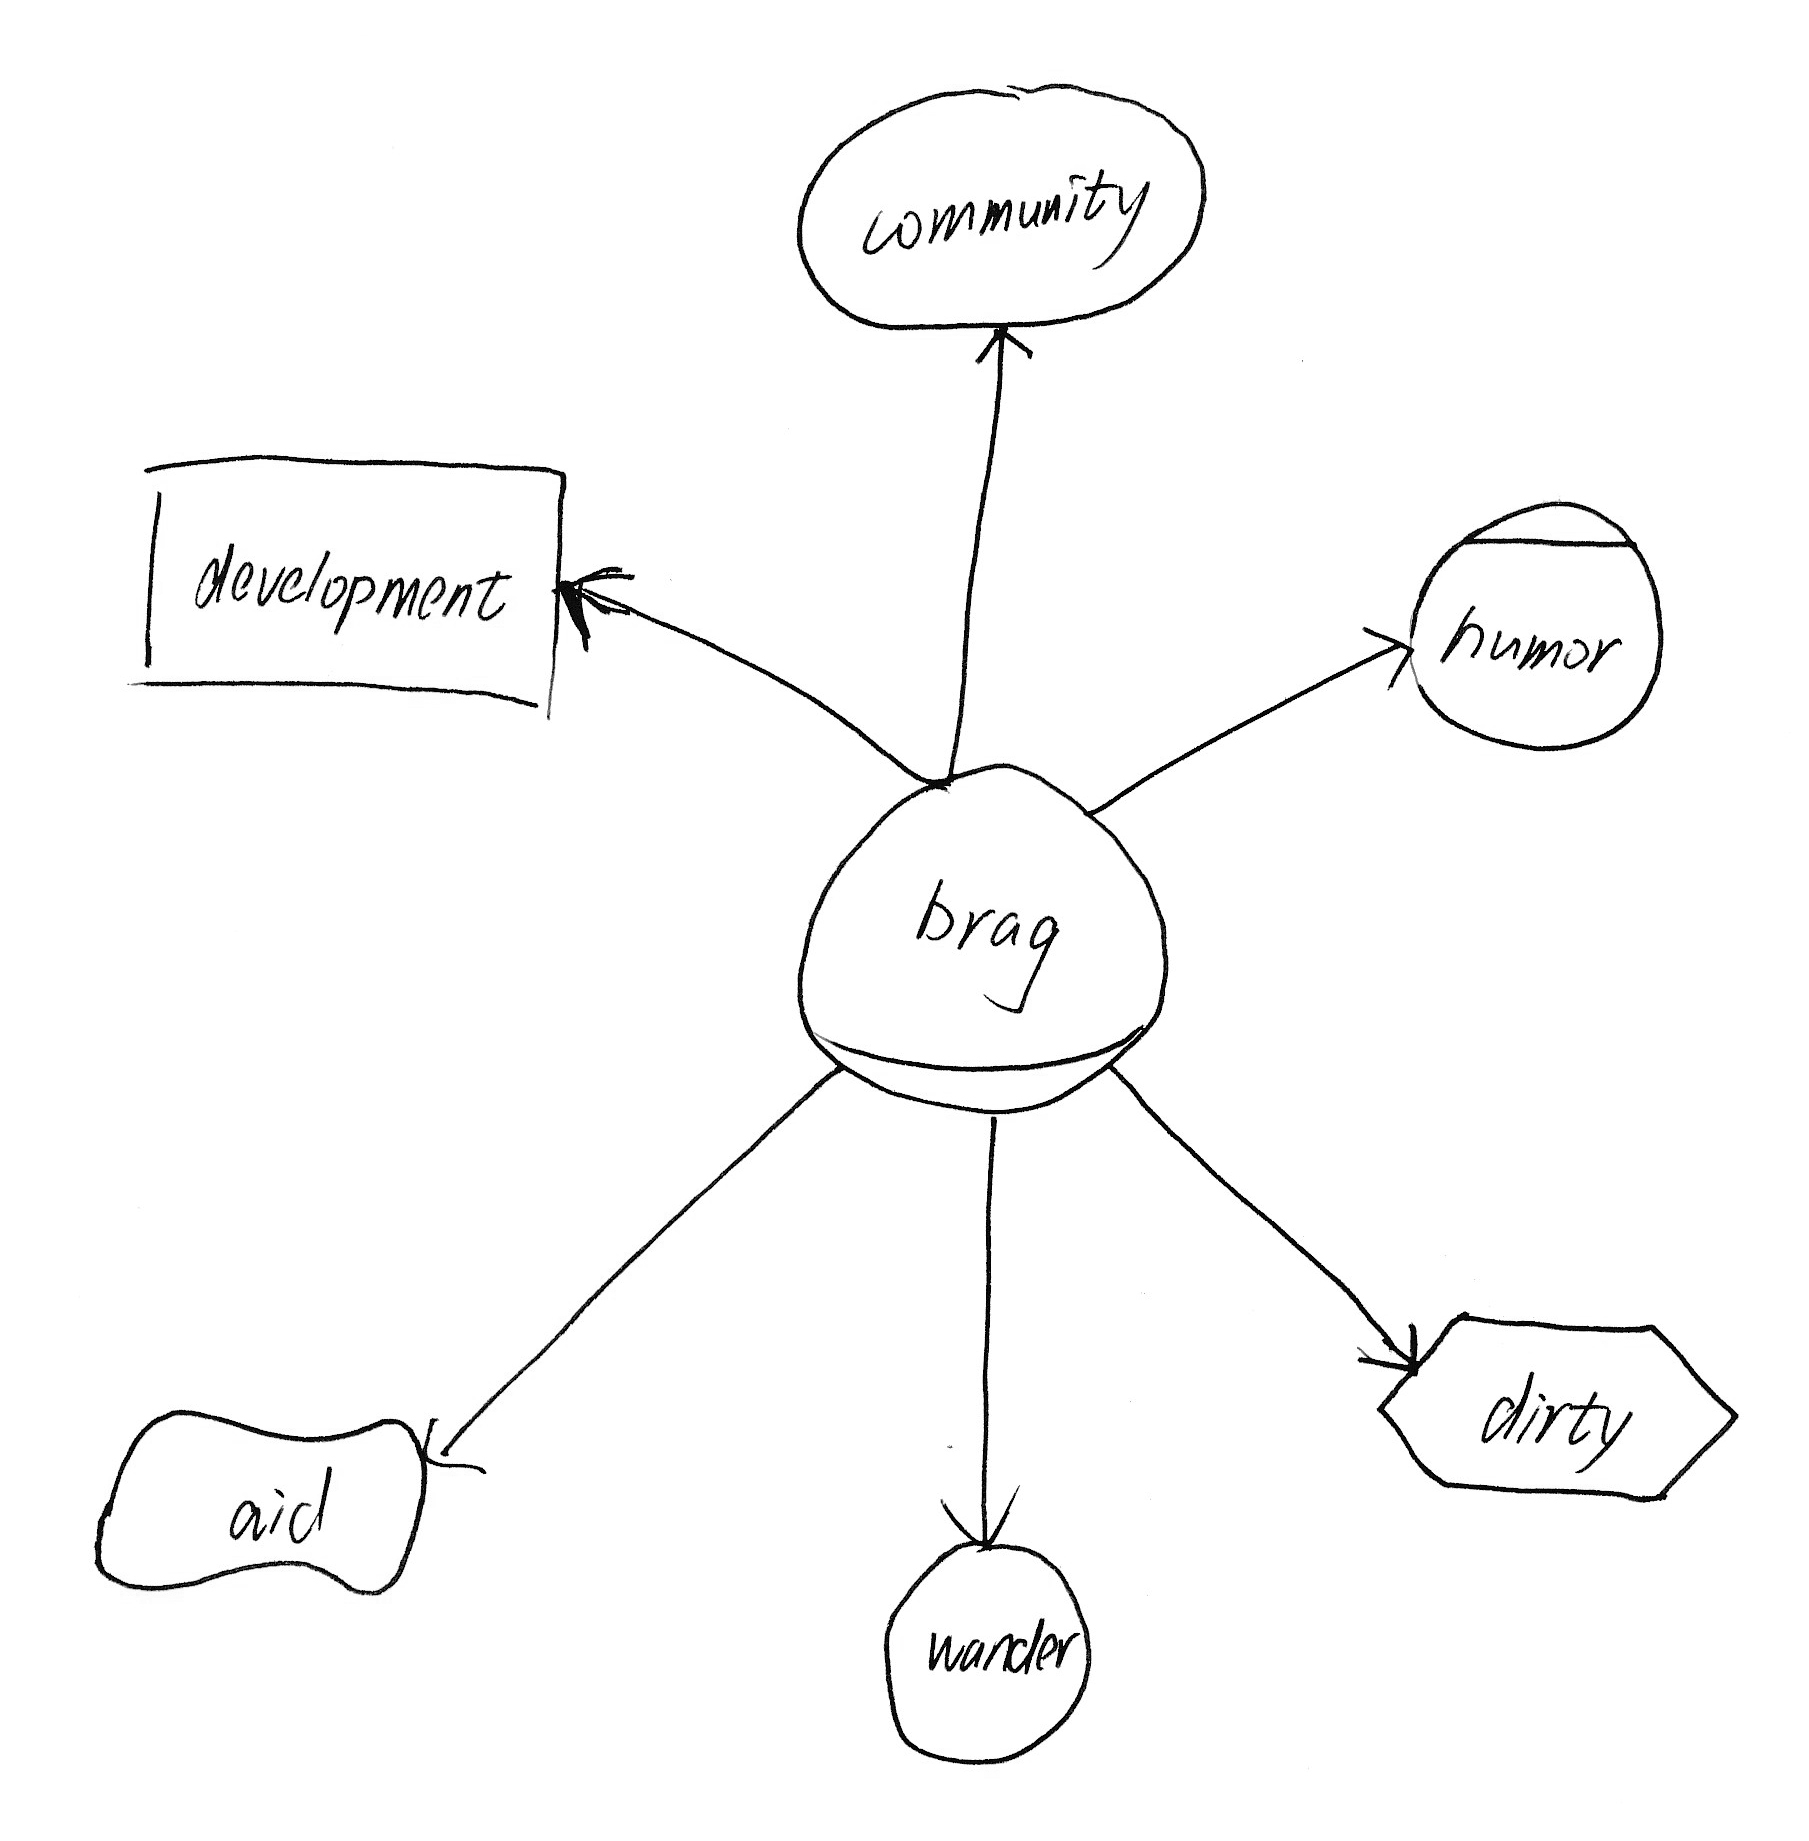actor: (861, 1518, 1112, 1783)
agent: (1387, 482, 1680, 777)
arrow: (540, 552, 656, 656), (921, 1476, 1039, 1566), (404, 1394, 500, 1493), (1348, 1299, 1435, 1397), (1339, 611, 1428, 699), (958, 303, 1054, 373)
goal: (775, 58, 1241, 346)
quality: (75, 1385, 451, 1611)
resource: (119, 434, 591, 734)
role: (775, 742, 1201, 1133)
task: (1362, 1288, 1763, 1534)
